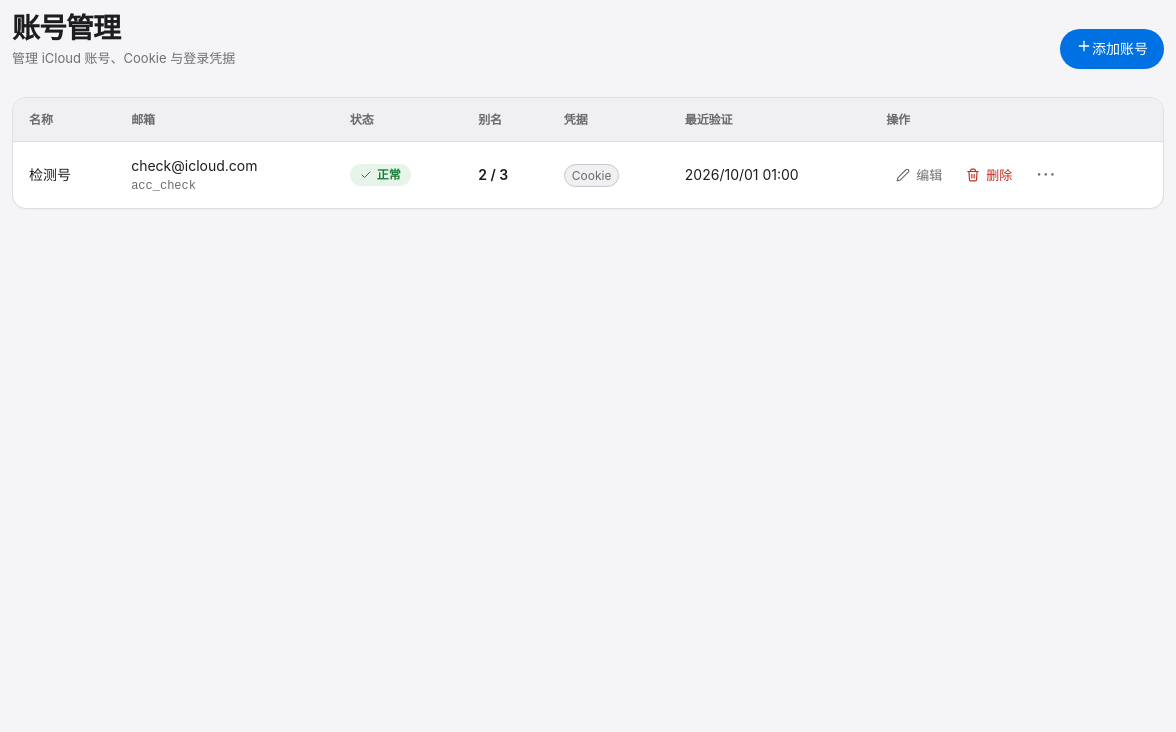
Scenario: AccountsPage 登录态检测 › 更多操作菜单包含「检测状态」项
The width and height of the screenshot is (1176, 732).
Expected: the text "检测号" is shown, [29, 166, 71, 183]
Click the button named "更多操作" at (1046, 175), box [1026, 155, 1066, 195]
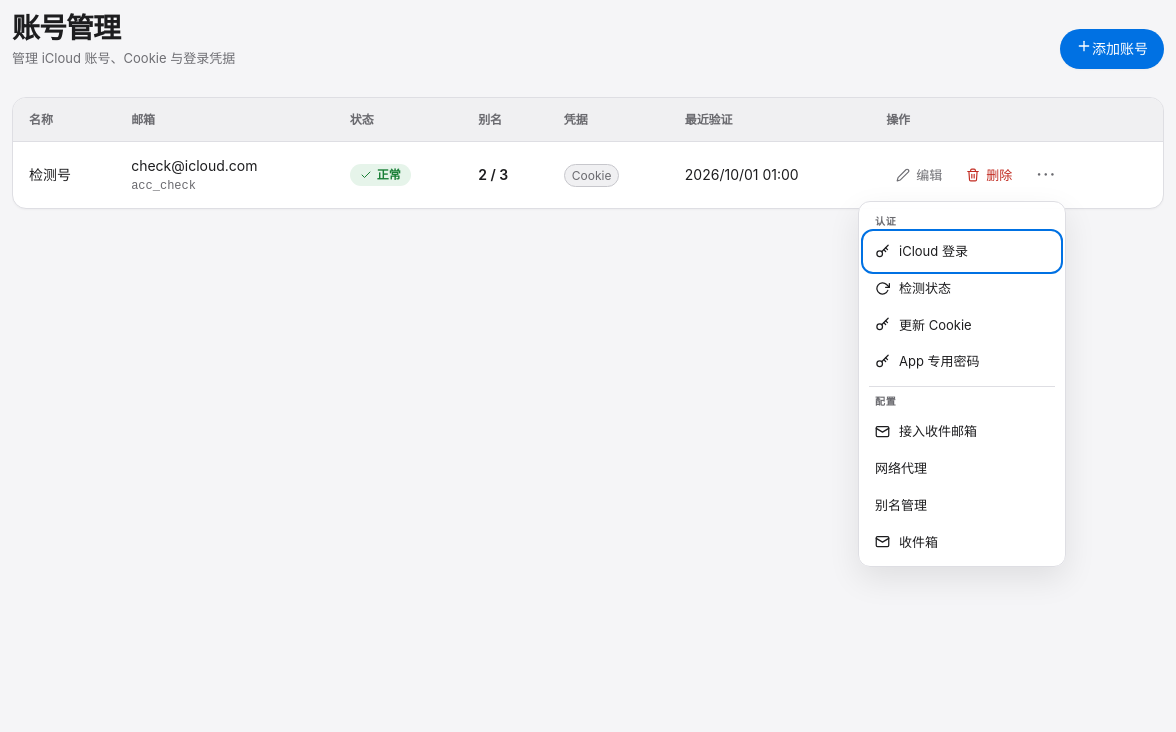
Expected: the menu item "检测状态" is shown, [865, 270, 1059, 307]
